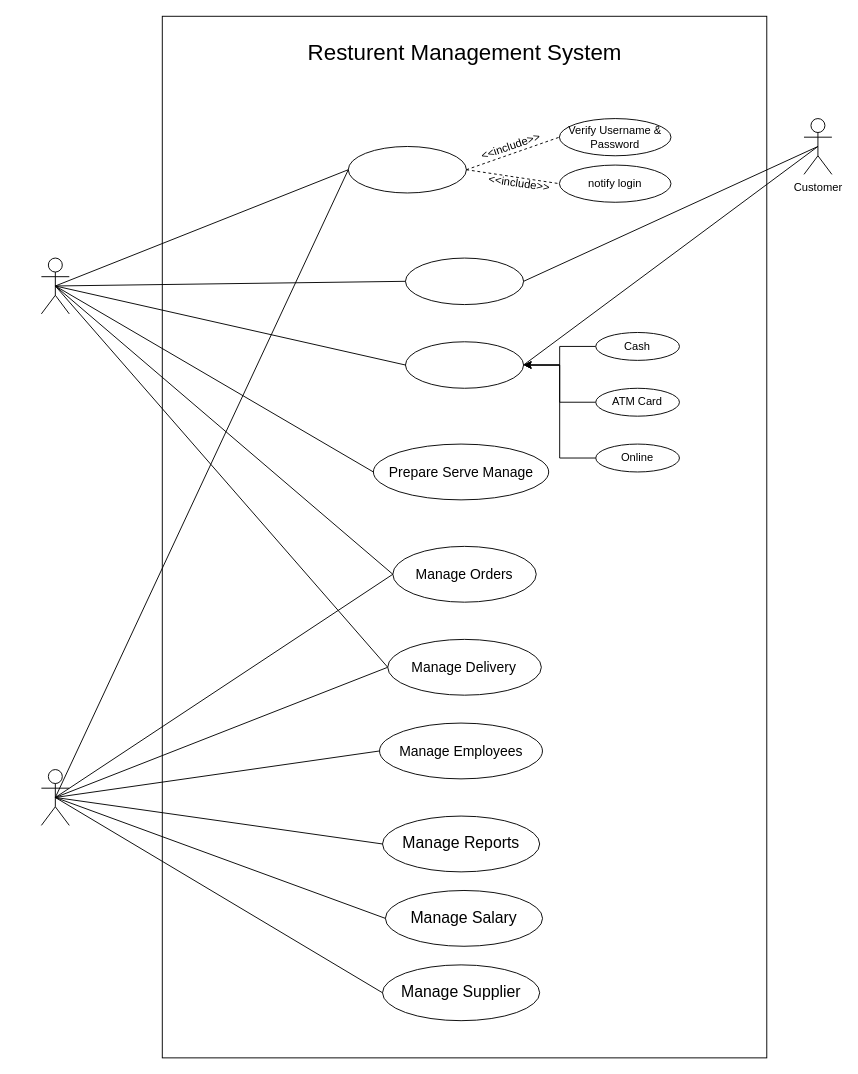
This 858x1074 diagram has some shape labels left out. Each missing label, with the centre of its shape:
Cashier: (54,285)
Log in: (406,169)
Manager/Admin: (54,797)
Order food: (464,281)
Payment: (464,364)
